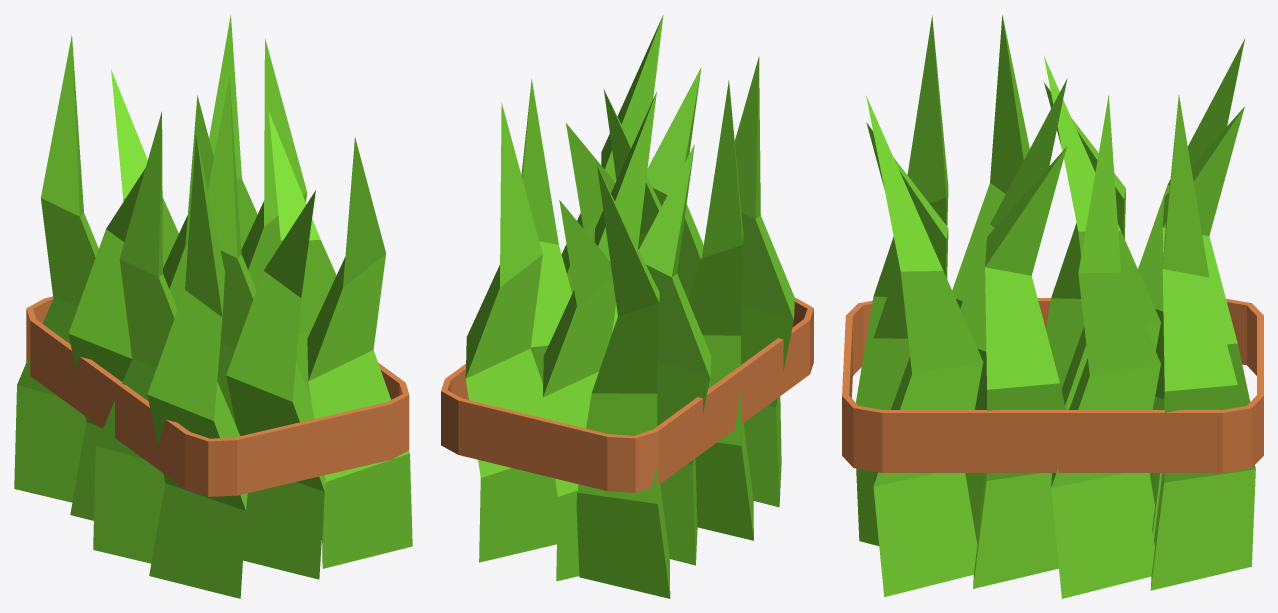
Rendered from wheatPack.fbx.
3 renders of one model, left to right at view 1: azimuth 30°, elevation 25°; view 2: azimuth 150°, elevation 25°; view 3: azimuth 270°, elevation 25°, orthographic. The views are drawn at different scales.
Parts seen in each view (by area): view 1: WheatPack; view 2: WheatPack; view 3: WheatPack.
Boxes of the visible parts, left/top/right/bottom form: WheatPack: left=14, top=14, right=412, bottom=598; WheatPack: left=441, top=15, right=813, bottom=598; WheatPack: left=842, top=15, right=1263, bottom=598.
Bounding box in the file's own units: 85.12 × 146 × 117.
